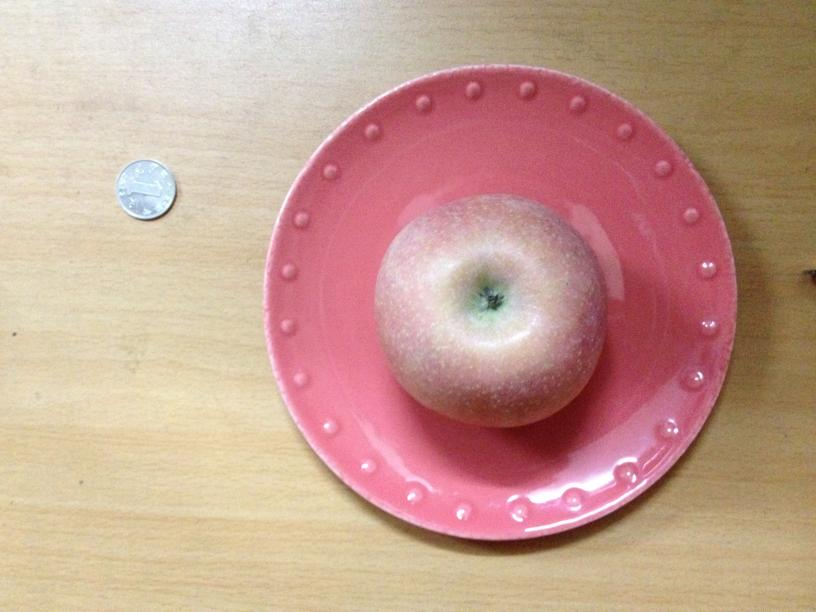apple: (370, 194, 604, 429)
coin: (116, 159, 175, 221)
